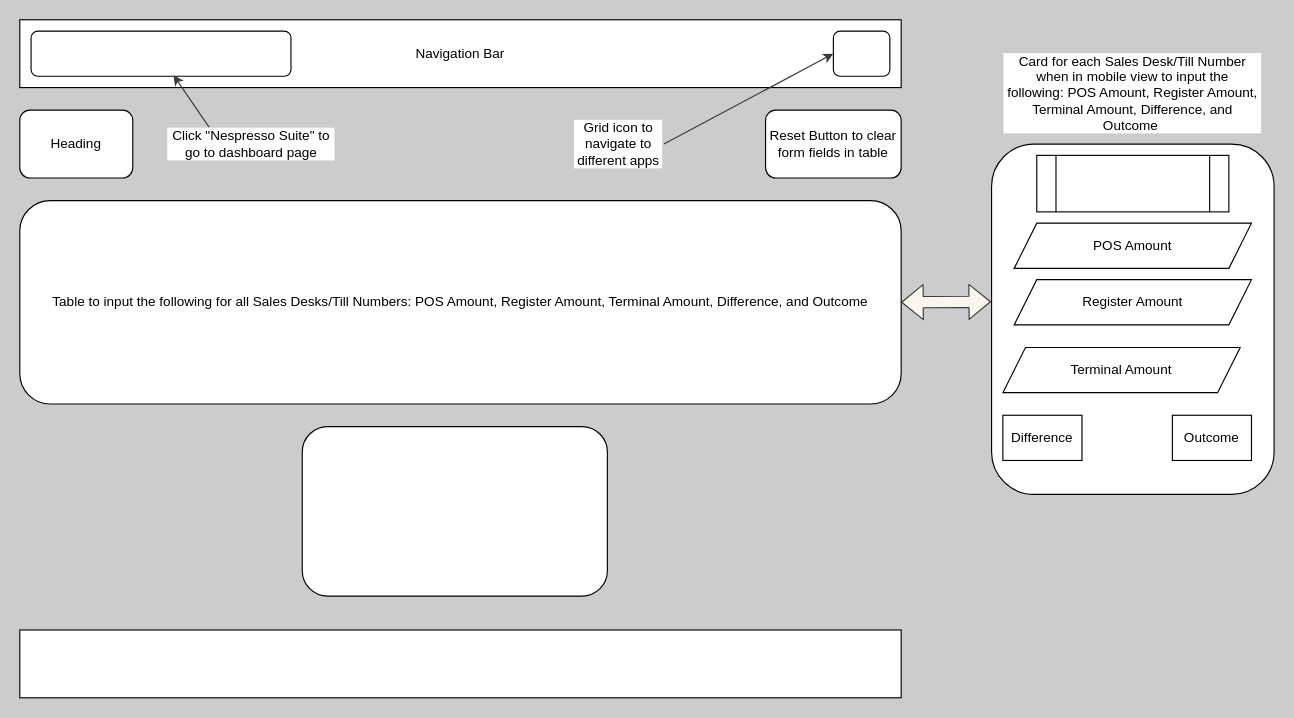
This 1294x718 diagram has some shape labels left out. The centre of each missing label's shape, as x and y in pixels:
Footer: the point at 460,663
Nespresso Suite Title & Logo: the point at 160,53
Reconciliation Results Table: the point at 454,510
Sales Desk Letter Till Number: the point at 1132,183
